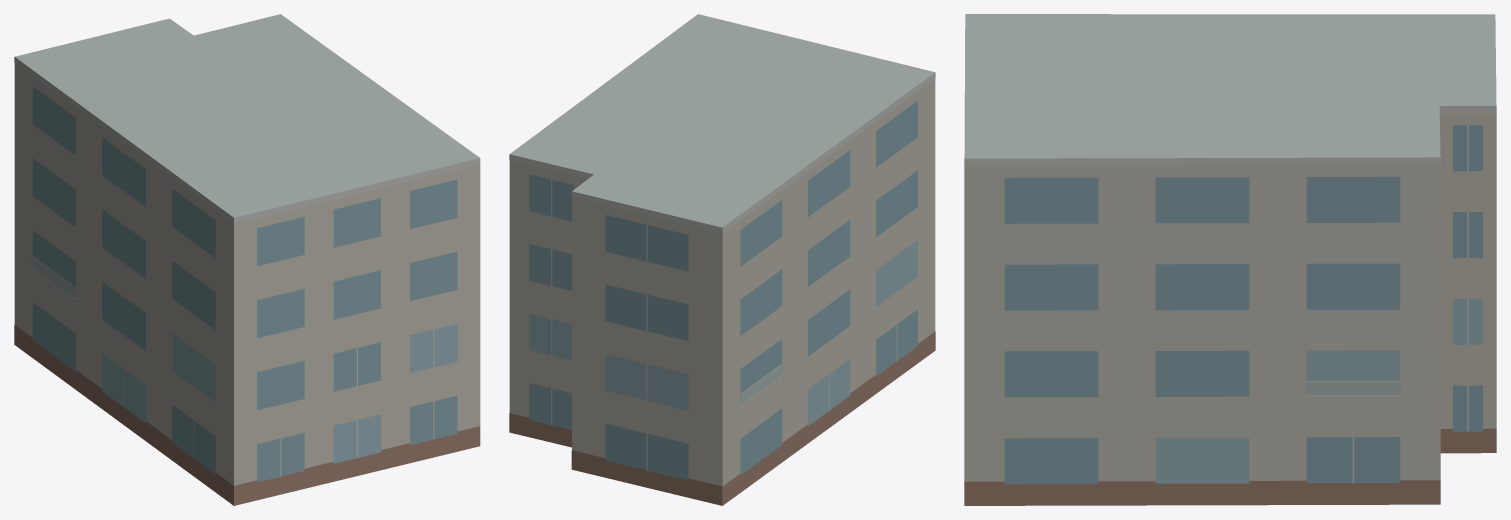
The model's file is survey-upis-32980394.glb.
3 renders of one model, left to right at view 1: azimuth 30°, elevation 25°; view 2: azimuth 150°, elevation 25°; view 3: azimuth 270°, elevation 25°, orthographic. The views are drawn at different scales.
Parts seen in each view (by area): view 1: survey-upis-32980394.tmp; view 2: survey-upis-32980394.tmp; view 3: survey-upis-32980394.tmp.
Part boxes in pixels (x1,y1,x2,y2): survey-upis-32980394.tmp: [14, 14, 480, 505]; survey-upis-32980394.tmp: [509, 14, 935, 505]; survey-upis-32980394.tmp: [964, 14, 1496, 505].
Size of the model in its own units: 10.31 by 11.5 by 15.98.
